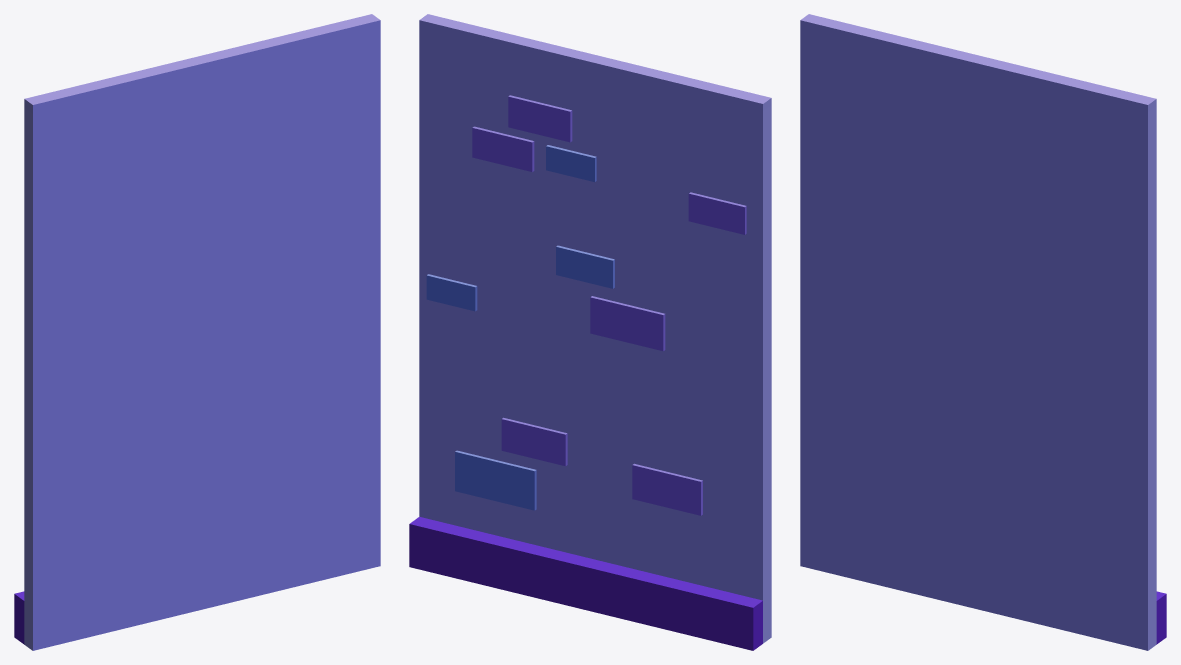
Rendered from wall_04.fbx.
3 renders of one model, left to right at view 1: azimuth 30°, elevation 25°; view 2: azimuth 150°, elevation 25°; view 3: azimuth 330°, elevation 25°, orthographic.
Parts seen in each view (by area): view 1: wall_04; view 2: wall_04; view 3: wall_04.
Boxes of the visible parts, box(x1,y1,x2,y2) form: wall_04: box(14, 14, 380, 650); wall_04: box(409, 14, 771, 650); wall_04: box(800, 14, 1166, 650).
Size of the model in its own units: 100 by 150 by 9.25.
1 material, 1 textured.
